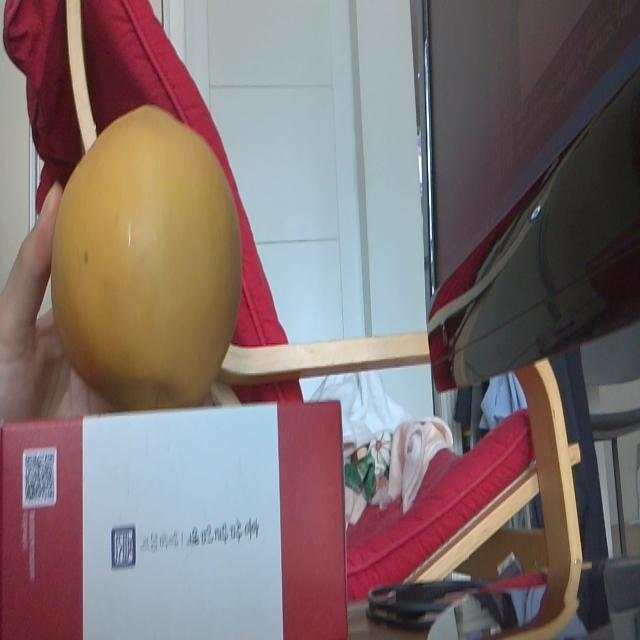pear: (53, 98, 248, 406)
